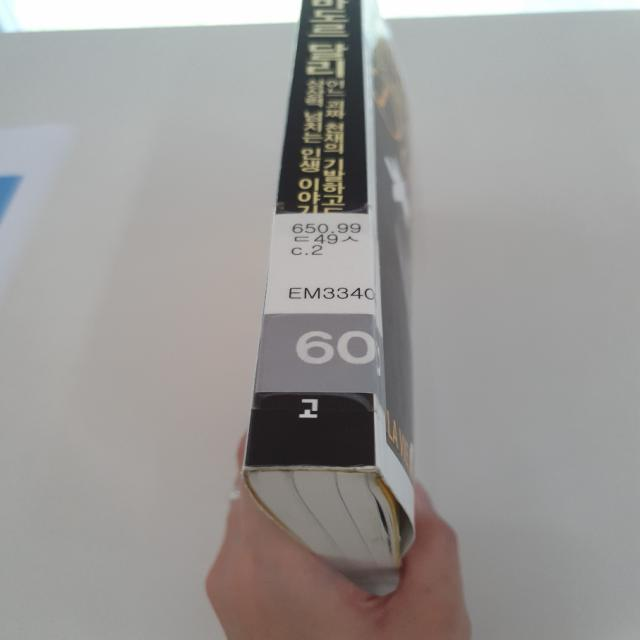Wornout: (237, 445, 382, 479)
